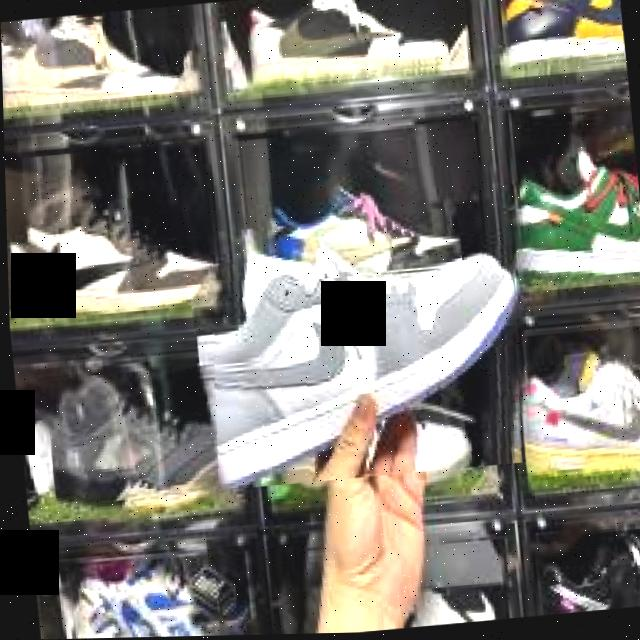shoe: (194, 251, 514, 490), (23, 170, 211, 313), (48, 375, 217, 504), (268, 185, 460, 275), (249, 0, 449, 85), (515, 149, 640, 281), (1, 19, 184, 107), (519, 354, 640, 476), (69, 562, 242, 639), (501, 0, 625, 78), (538, 535, 640, 616)
